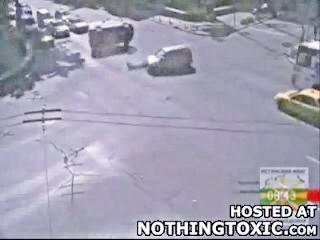Car: (274, 87, 319, 132), (146, 42, 194, 76), (89, 20, 134, 53), (291, 40, 320, 88), (62, 16, 88, 34), (48, 19, 70, 38), (36, 8, 52, 28), (22, 18, 38, 38), (37, 33, 55, 49), (18, 1, 32, 16), (55, 7, 68, 19), (7, 2, 16, 19)
Major Accident: (89, 20, 195, 77)
